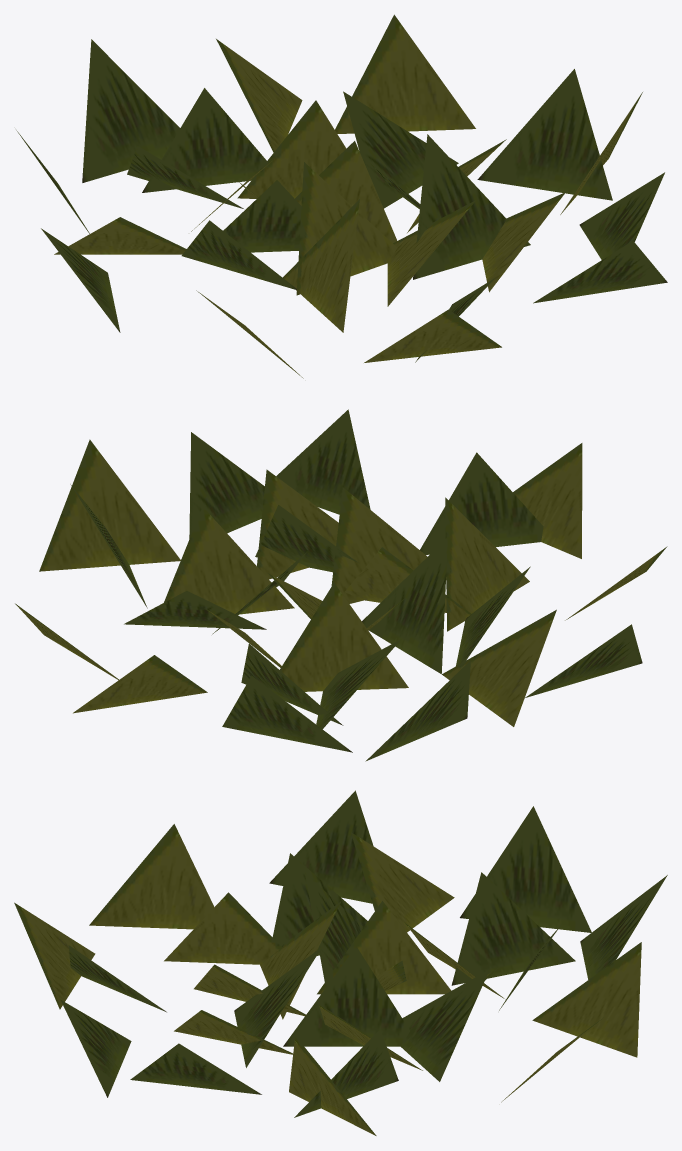
Rendered from dec_Ground_Grass_07_44959.glb.
The picture shows the model from 3 angles, top to bottom: view 1: azimuth 30°, elevation 25°; view 2: azimuth 150°, elevation 25°; view 3: azimuth 270°, elevation 25°; orthographic projection. The views are drawn at different scales.
Parts seen in each view (by area): view 1: Ground_Grass_07_mesh; view 2: Ground_Grass_07_mesh; view 3: Ground_Grass_07_mesh.
Boxes of the visible parts, <box> form: Ground_Grass_07_mesh: <box>16,14,667,378</box>; Ground_Grass_07_mesh: <box>15,409,667,761</box>; Ground_Grass_07_mesh: <box>14,790,667,1135</box>.
Size of the model in its own units: 1.76 by 0.2966 by 1.8.
Materials: 1 (1 with a texture image).
